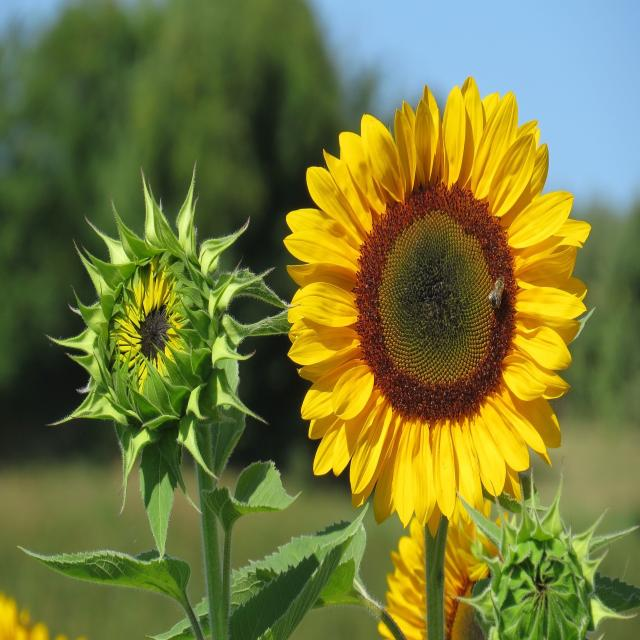sunflower: (269, 59, 596, 533), (51, 175, 274, 495)
